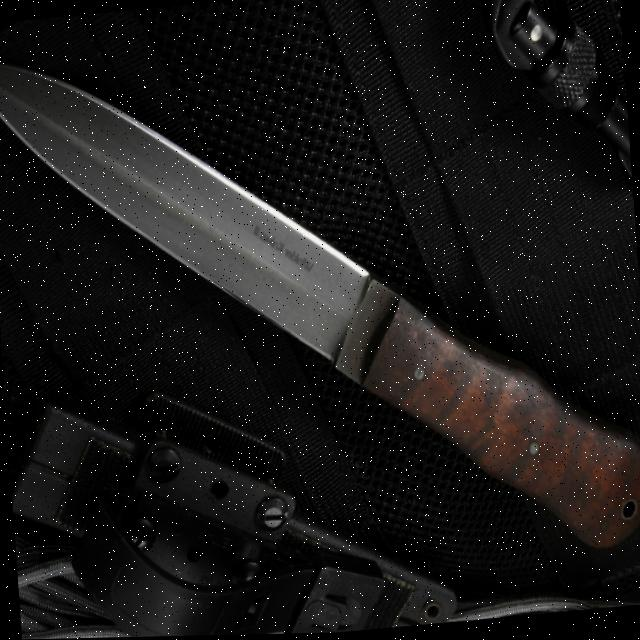knife: (0, 0, 640, 603)
